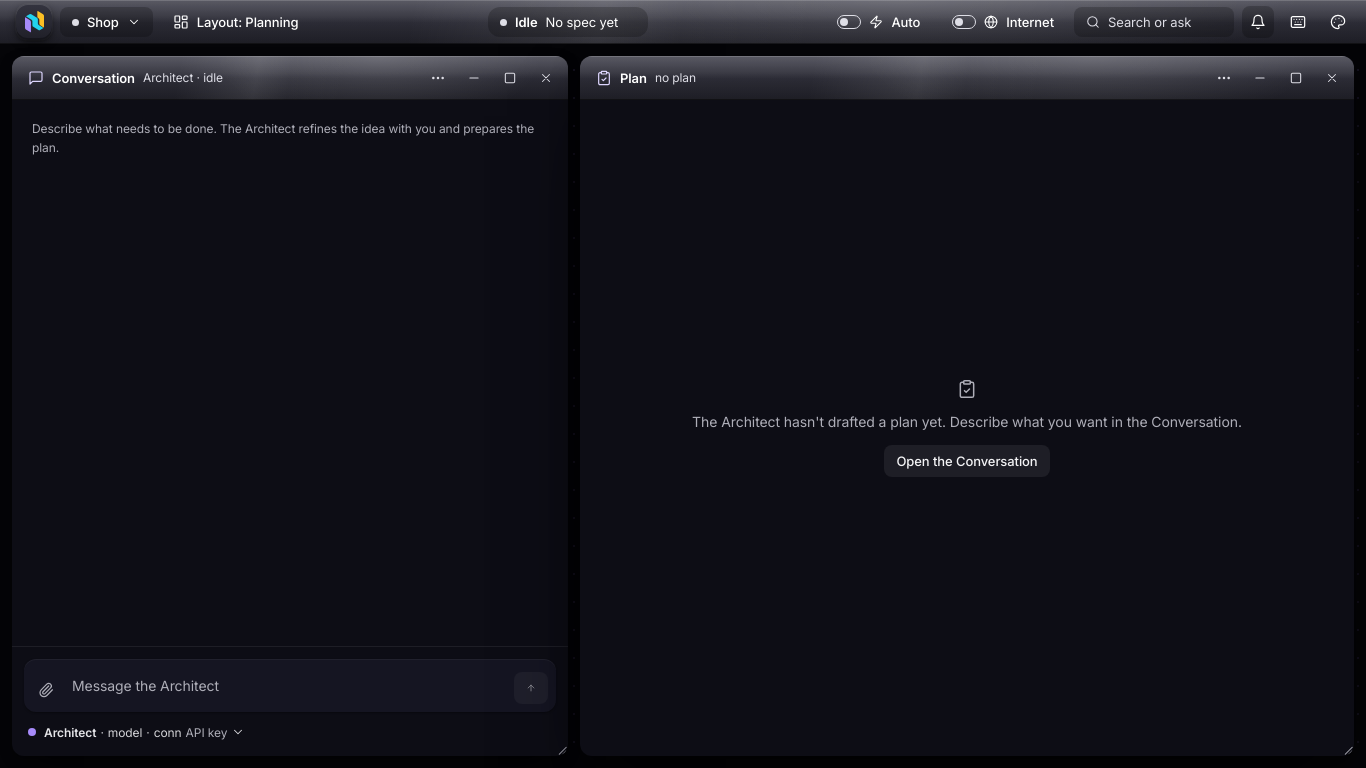
Quadro em en › estado vazio, subtítulo e selo em en
Click the button named "Nants menu" at (34, 22), box [16,4,52,40]
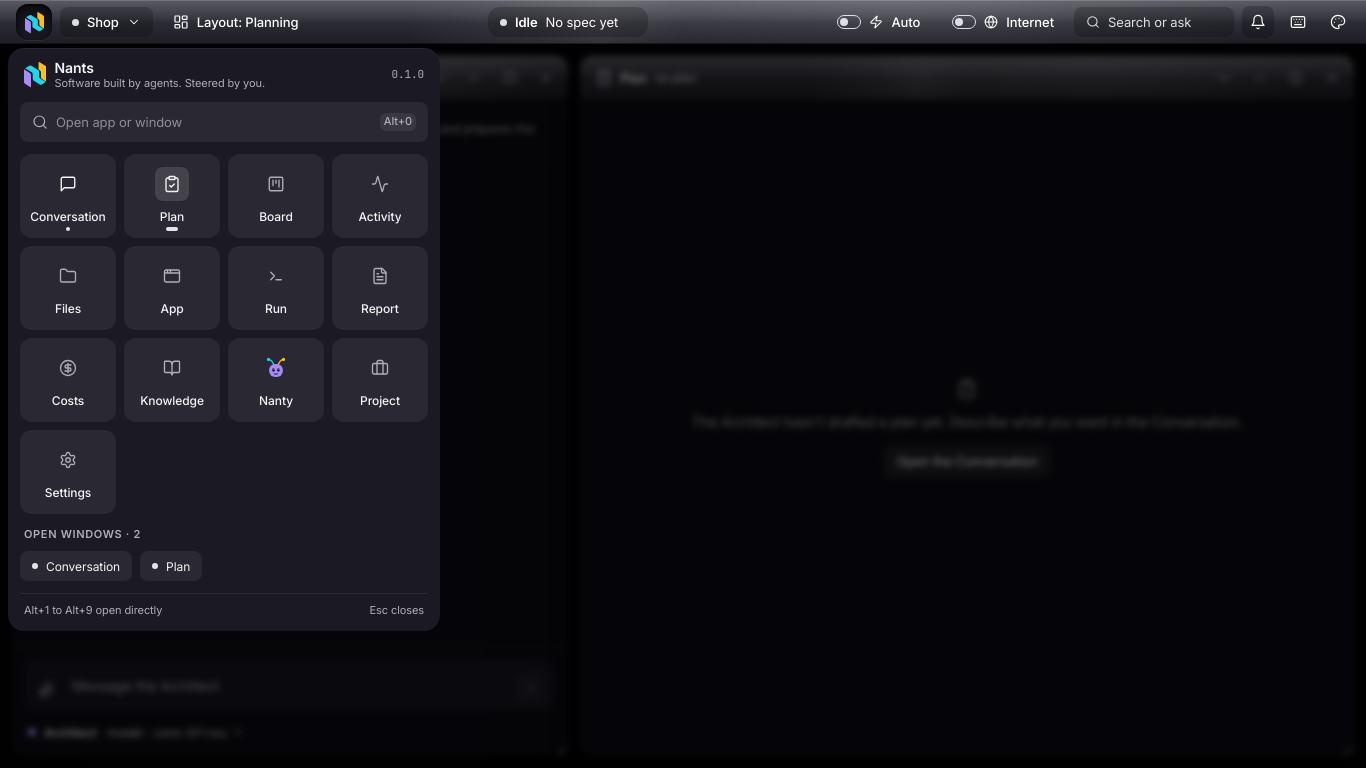
Click the button "Board" at (276, 196), box [228,154,324,238]
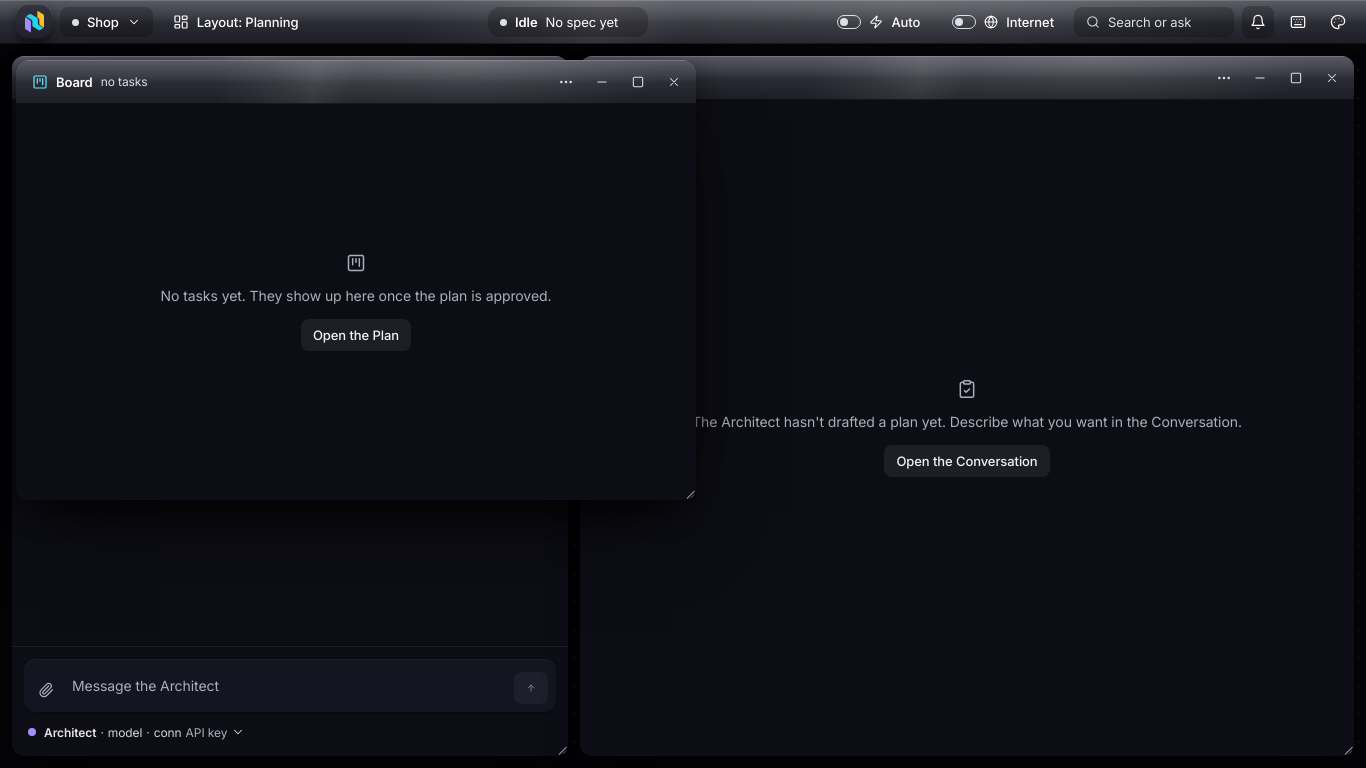
Result: the text "No tasks yet. They show up here once the plan is approved." is shown at [161,285,551,307]
Result: the button "Open the Plan" is shown at [301,319,411,351]
Result: the text "no tasks" is shown at [101,74,148,89]
